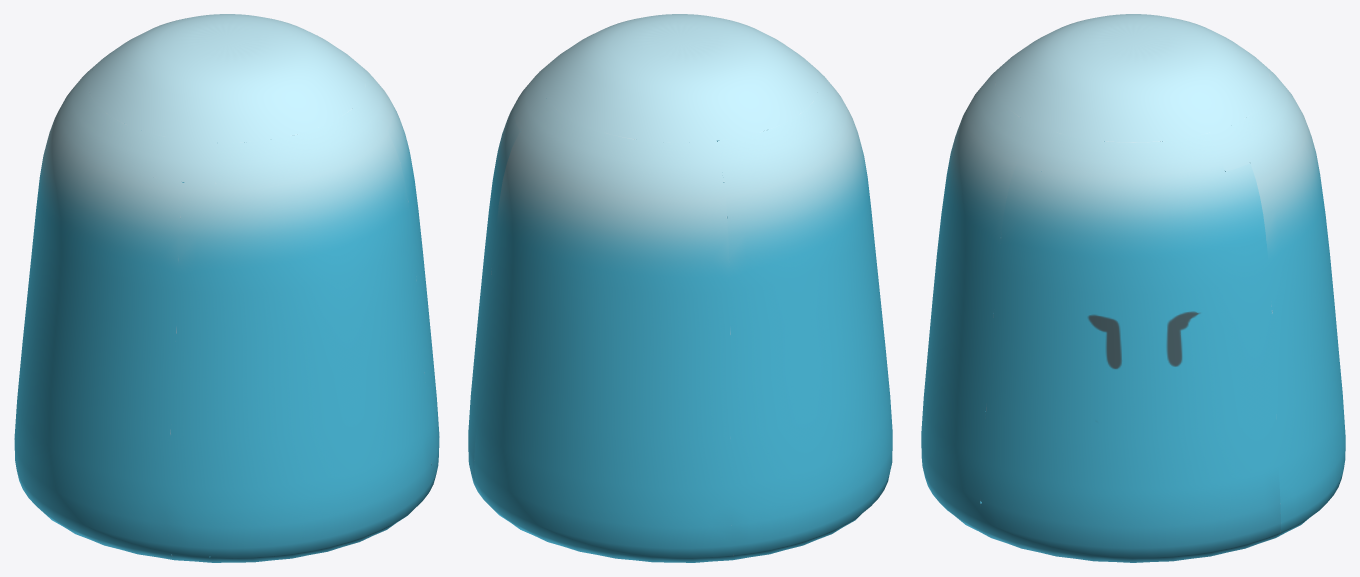
The model's file is Slime.fbx.
The picture shows the model from 3 angles, left to right: view 1: azimuth 30°, elevation 25°; view 2: azimuth 150°, elevation 25°; view 3: azimuth 270°, elevation 25°; orthographic projection.
Visible parts, largest first — view 1: Cylinder; view 2: Cylinder; view 3: Cylinder.
Part boxes in pixels (left/top/right/bottom): Cylinder: left=14, top=14, right=439, bottom=562; Cylinder: left=468, top=14, right=892, bottom=562; Cylinder: left=921, top=14, right=1345, bottom=562.
Size of the model in its own units: 212 by 246 by 212.
